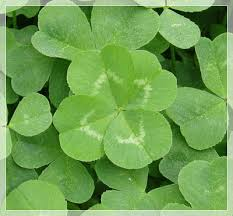4-clover: (50, 44, 179, 169)
